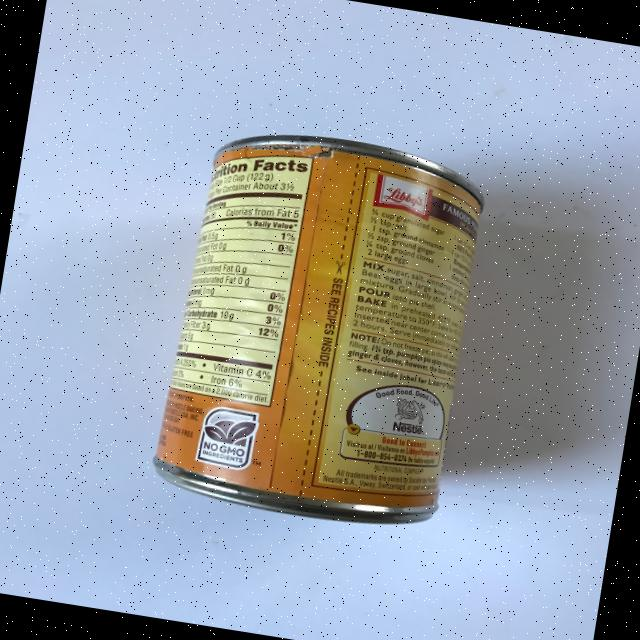metal: (148, 116, 494, 537)
